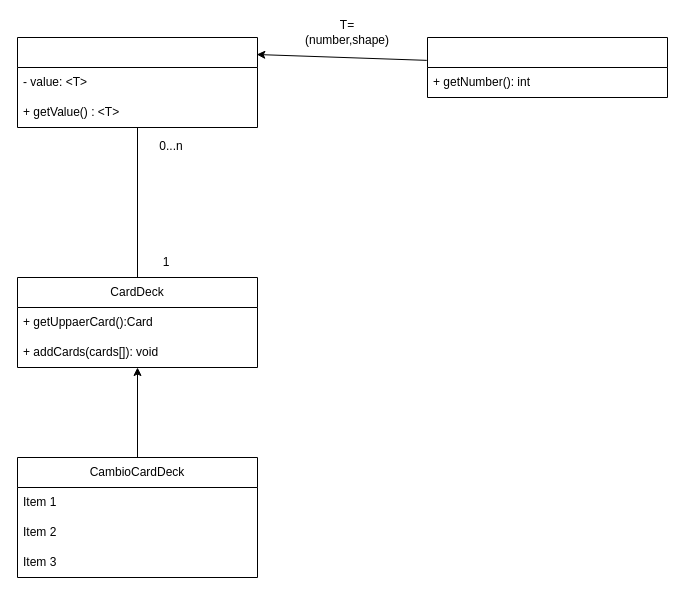
Image size: 685x595. Some labels were removed from this diagram. The box of each missing label's shape, as (x1, y1, x2, y2) in pixels:
Card <T>: (16, 36, 258, 128)
RegularCard: (426, 36, 668, 98)
